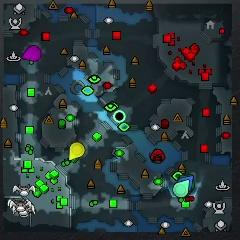p1: (178, 176, 193, 192)
p2: (173, 180, 188, 196)
p2Clone: (113, 111, 126, 123)
p3: (23, 47, 40, 60)
p4: (70, 142, 84, 160)
